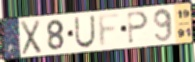8: (46, 19, 66, 52)
9: (152, 8, 174, 43)
F: (97, 11, 122, 49)
P: (127, 10, 150, 45)
U: (73, 14, 97, 50)
X: (19, 19, 42, 57)
